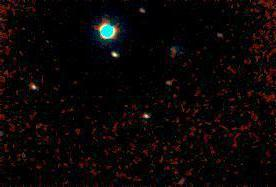star: (94, 10, 124, 40)
